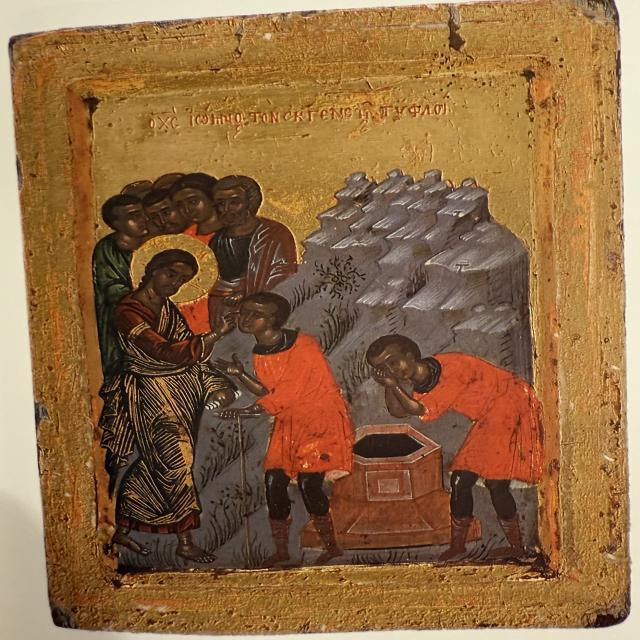aura: (133, 234, 223, 306)
christ: (108, 234, 224, 577)
person: (362, 333, 552, 559), (218, 289, 370, 570)
